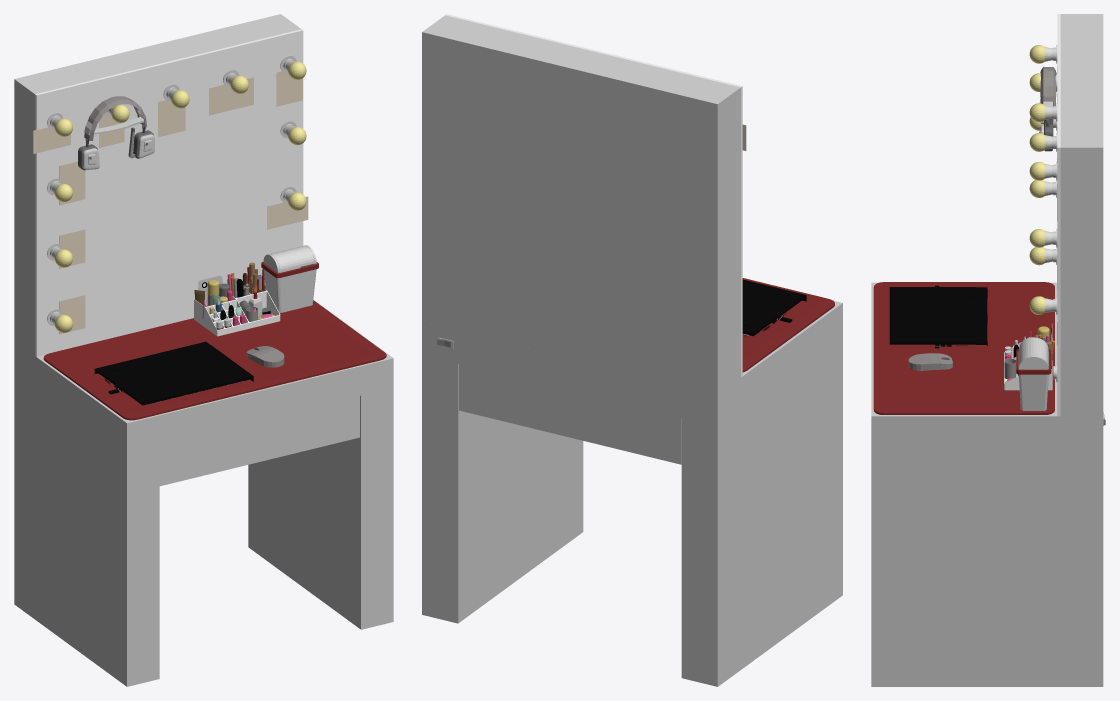
The model's file is блокинг с материалами.fbx.
The picture shows the model from 3 angles, left to right: view 1: azimuth 30°, elevation 25°; view 2: azimuth 150°, elevation 25°; view 3: azimuth 270°, elevation 25°; orthographic projection. The views are drawn at different scales.
Parts seen in each view (by area): view 1: Cube.003, Cube, mouse pad, Cube.006, Cube.085, Sphere.004, Cube.018, Cube.016, Cylinder.009, Cylinder.033, Cube.157, Cube.134 (+1 smaller); view 2: Cube.003, mouse pad, Cube.085, Cube; view 3: Cube.003, mouse pad, Cube.085, Sphere.004, Cylinder.009, Cube, Cube.018, Cylinder.033, Cube.134, Cube.078, Cube.157, Cube.016.
Boxes of the visible parts, box(x1,y1,x2,y2) form: Cube.003: box(14, 14, 393, 686); Cube: box(35, 29, 303, 356); mouse pad: box(43, 300, 386, 420); Cube.006: box(33, 71, 308, 334); Cube.085: box(100, 345, 253, 405); Sphere.004: box(54, 61, 306, 332); Cube.018: box(264, 266, 316, 312); Cube.016: box(194, 290, 280, 336); Cylinder.009: box(47, 55, 296, 325); Cylinder.033: box(263, 245, 316, 273); Cube.157: box(84, 96, 146, 140); Cube.134: box(94, 341, 253, 393); Cube.003: box(422, 15, 842, 686); mouse pad: box(742, 278, 834, 372); Cube.085: box(742, 279, 806, 330); Cube: box(445, 14, 742, 377); Cube.003: box(871, 14, 1103, 686); mouse pad: box(873, 282, 1054, 414); Cube.085: box(889, 287, 976, 344); Sphere.004: box(1029, 45, 1044, 314); Cylinder.009: box(1045, 45, 1057, 382); Cube: box(1057, 14, 1060, 416); Cube.018: box(1018, 352, 1048, 410); Cylinder.033: box(1019, 337, 1048, 369); Cube.134: box(931, 287, 987, 346); Cube.078: box(908, 353, 952, 371); Cube.157: box(1040, 67, 1056, 118); Cube.016: box(1004, 337, 1052, 390).
Bounding box in the file's own units: 528 × 965 × 379.
